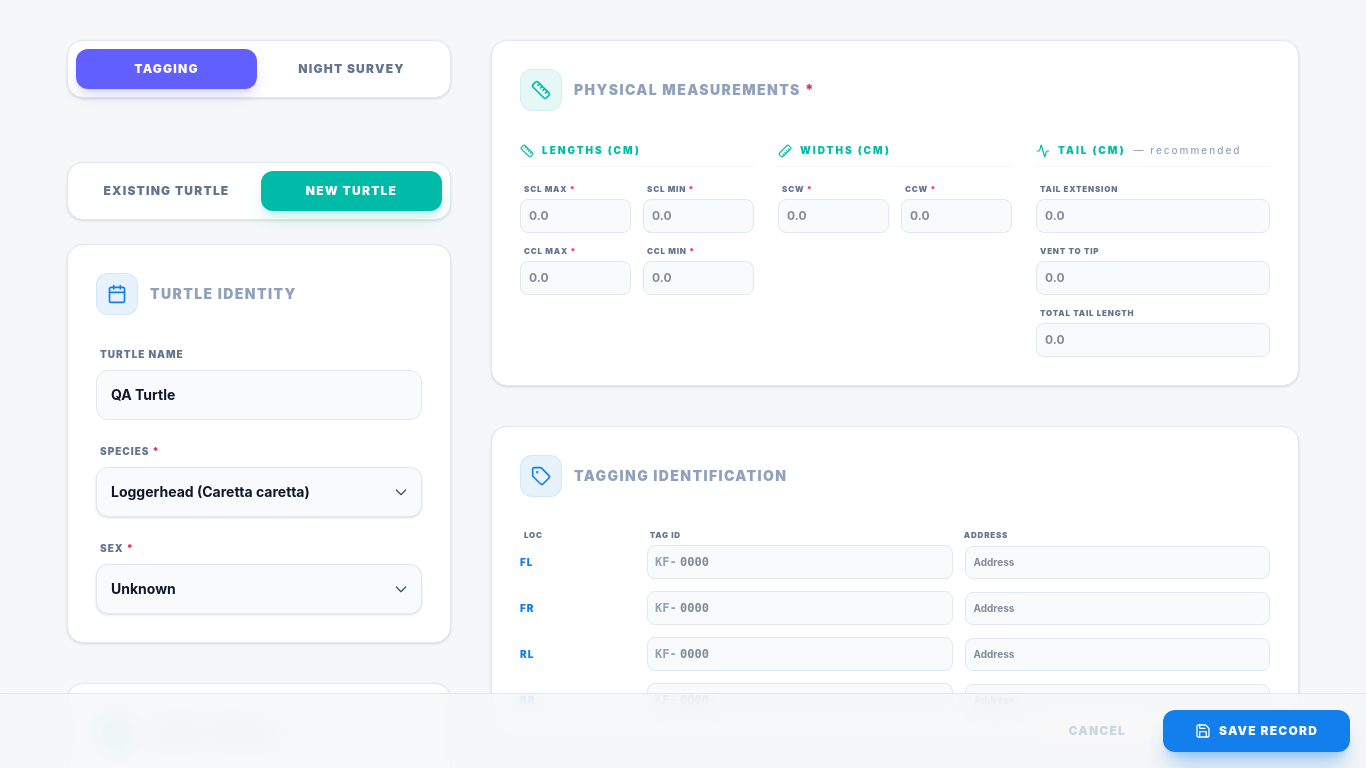
Scenario: TaggingEntry measurements › blocks the save when a measurement is blank and measurements are required (the default)
The image size is (1366, 768).
Earlier steps of the test are not shown.
Click the button "Save Record".
click(1256, 731)  # box [1163,710,1350,752]
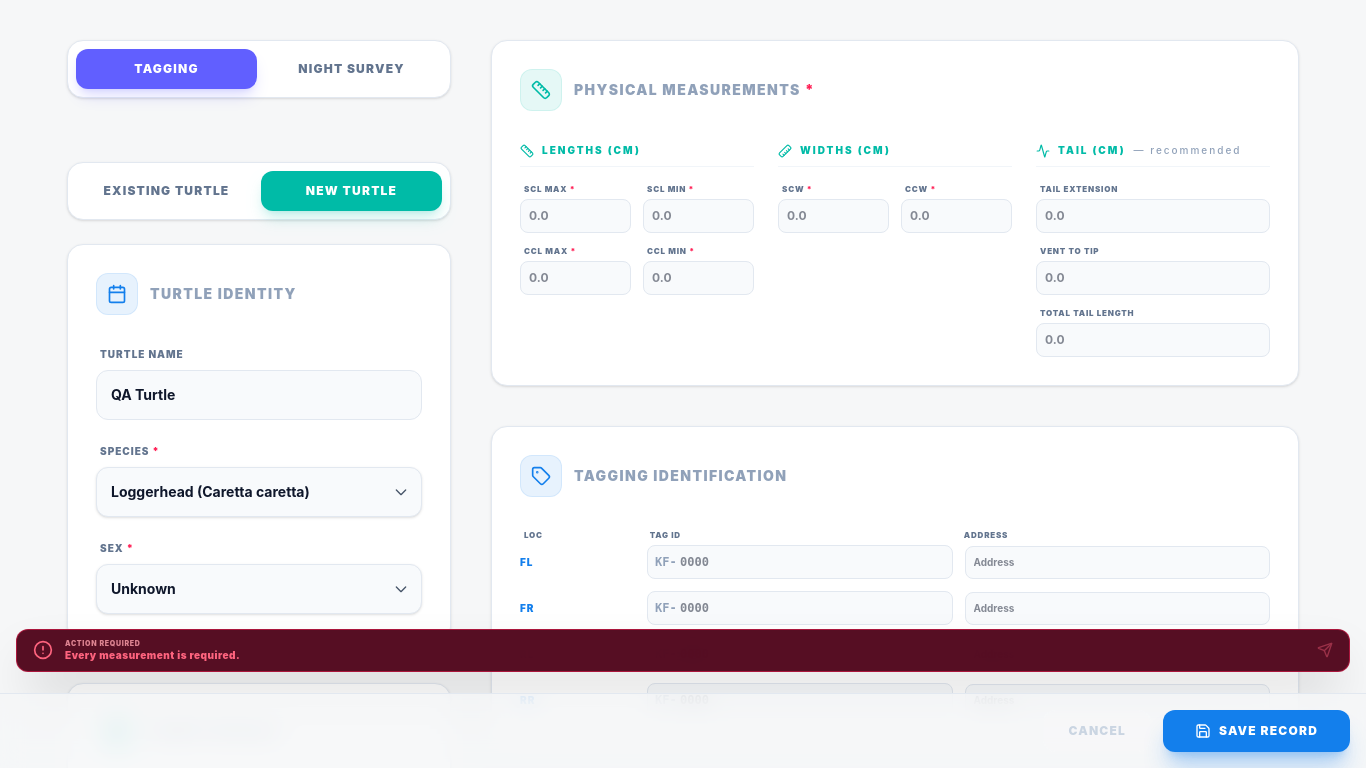
Check: the text "Every measurement is required." is shown, box [65,648,240,660]
